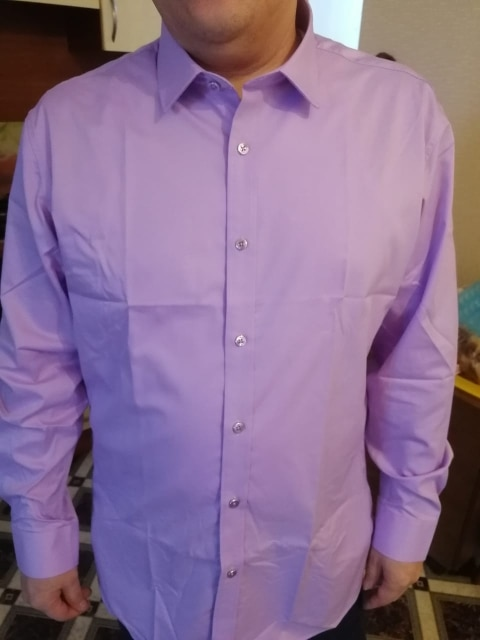shirts: (11, 30, 457, 631)
